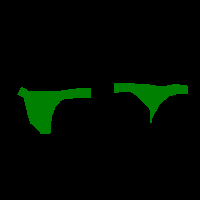mutande: (17, 86, 91, 134), (113, 82, 188, 123)
